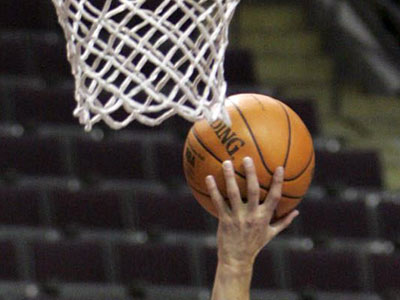basketball: (182, 93, 315, 224)
